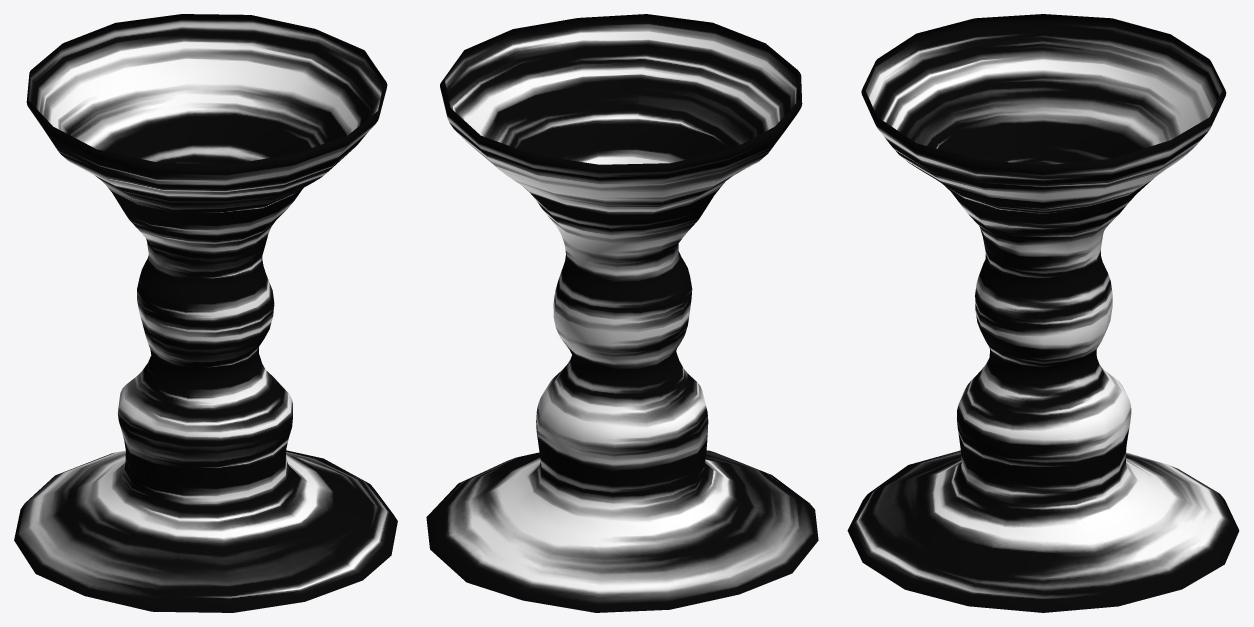
The model's file is longjuanfeng_bm01.FBX.
3 views of the same model, side by side, from view 1: azimuth 30°, elevation 25°; view 2: azimuth 150°, elevation 25°; view 3: azimuth 270°, elevation 25° (orthographic).
Visible parts, largest first — view 1: bm_longjuanfeng; view 2: bm_longjuanfeng; view 3: bm_longjuanfeng.
Part boxes in pixels (left/top/right/bottom): bm_longjuanfeng: left=14, top=14, right=397, bottom=612; bm_longjuanfeng: left=426, top=14, right=818, bottom=612; bm_longjuanfeng: left=847, top=14, right=1239, bottom=612.
Bounding box in the file's own units: 166 × 208 × 166.
Materials: 1 (1 with a texture image).
